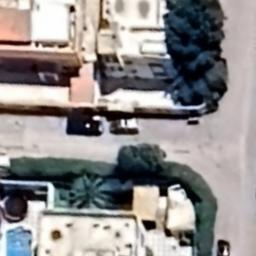pickup: (108, 116, 142, 138)
sedan: (215, 235, 233, 256)
unknown: (62, 114, 106, 140)
